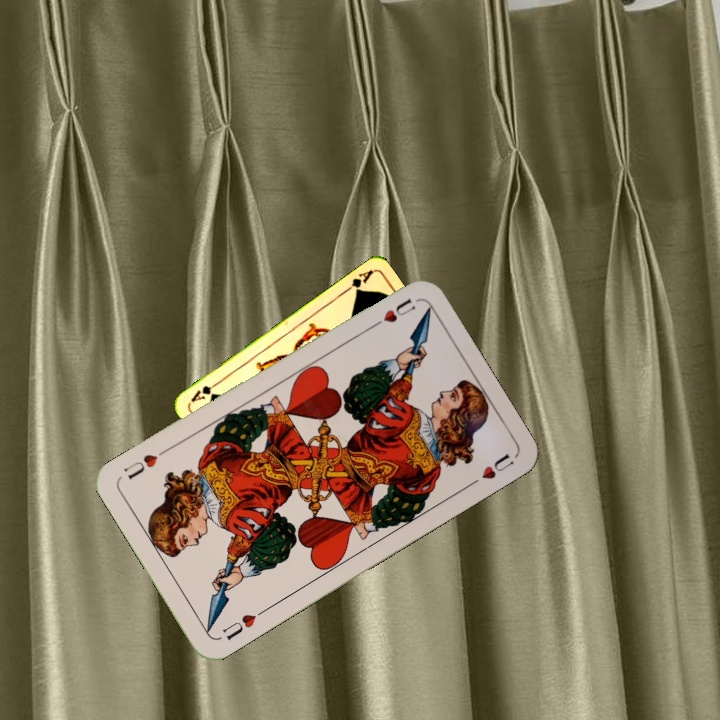GA: (340, 266, 375, 296)
HU: (365, 294, 419, 332), (218, 605, 268, 643)
